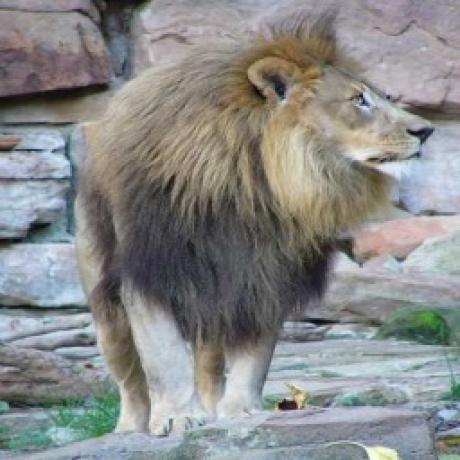Lion: (67, 13, 439, 440)
